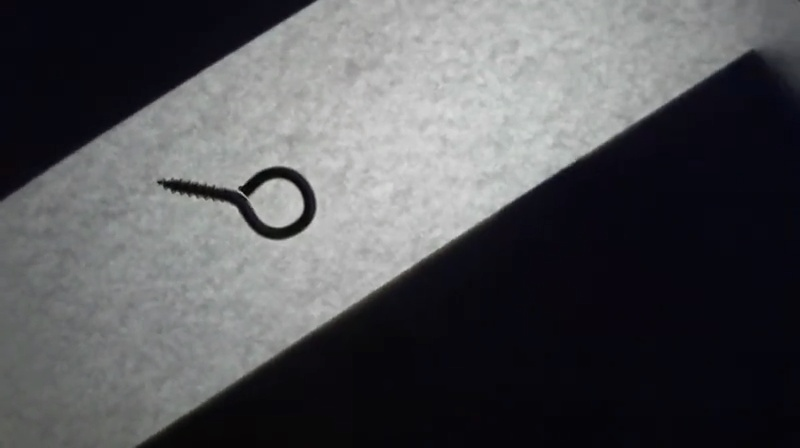O001: (153, 163, 322, 241)
